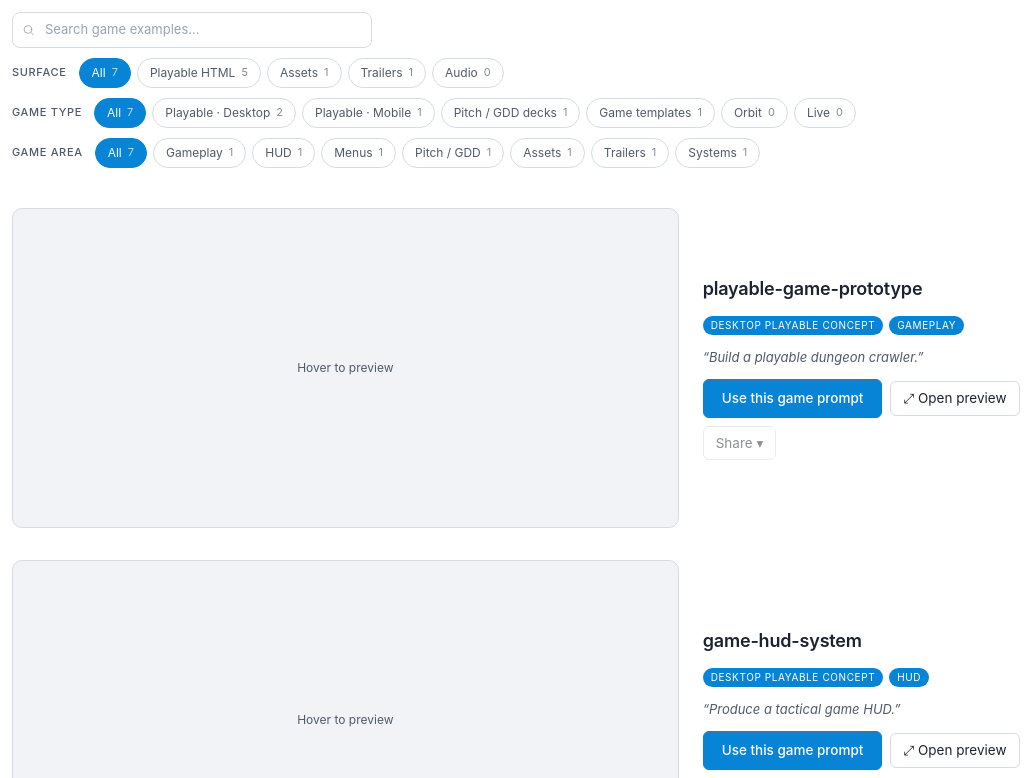
ExamplesTab › filters examples by free-text search and shows an empty match state
Type "dungeon" into the search field named "Search game examples by name".
click(192, 30); type("dungeon")  # box left=12, top=12, right=372, bottom=48
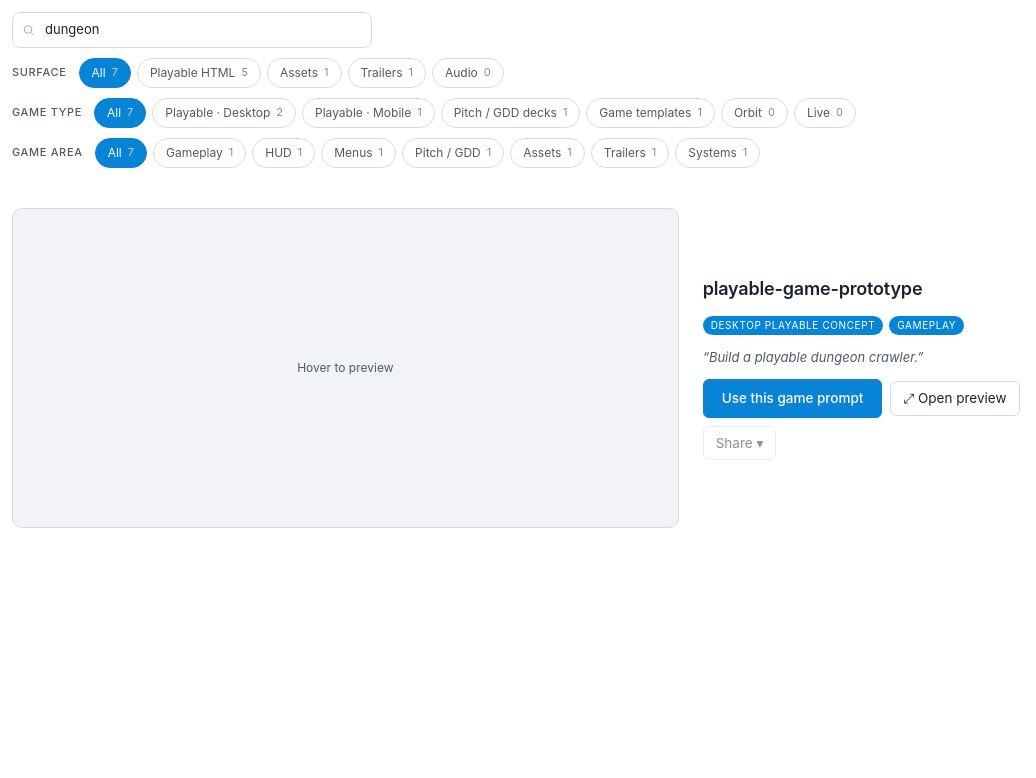
Check: the element with test id "example-card-playable-game-prototype" is shown, box left=12, top=208, right=1035, bottom=528
Replace the text in the search field named "Search game examples by name" with "no matching example" at (192,30), box left=12, top=12, right=372, bottom=48
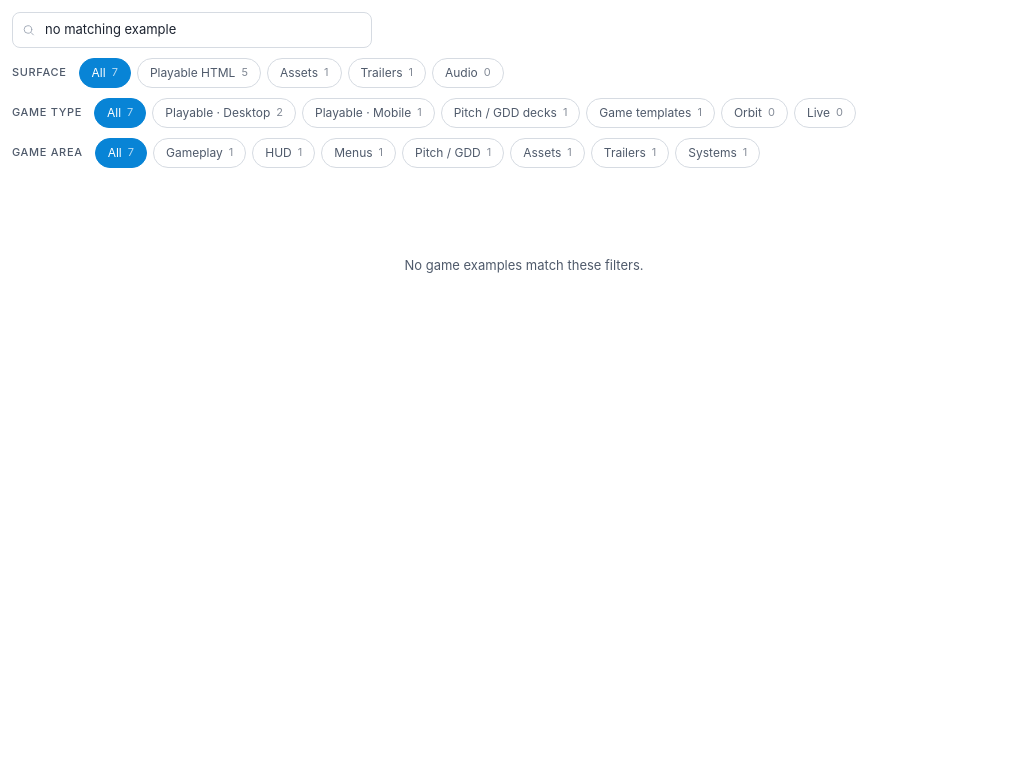
Check: the text "No game examples match these filters." is shown, box left=404, top=256, right=644, bottom=272
